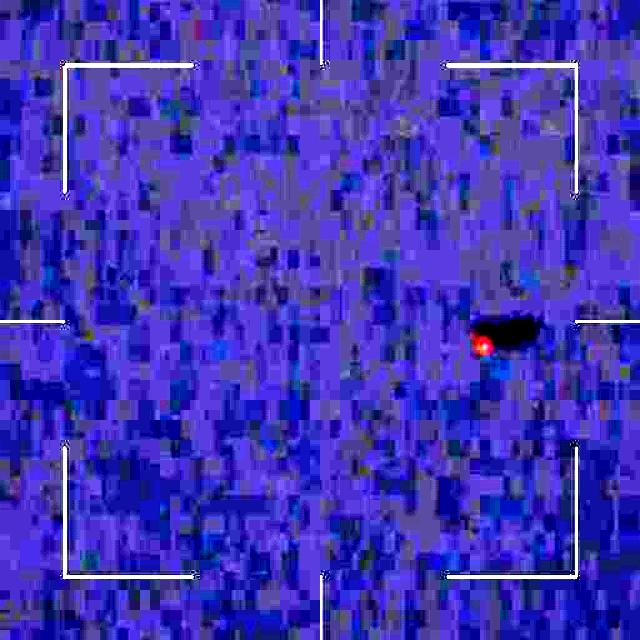bird: (474, 325, 502, 365)
